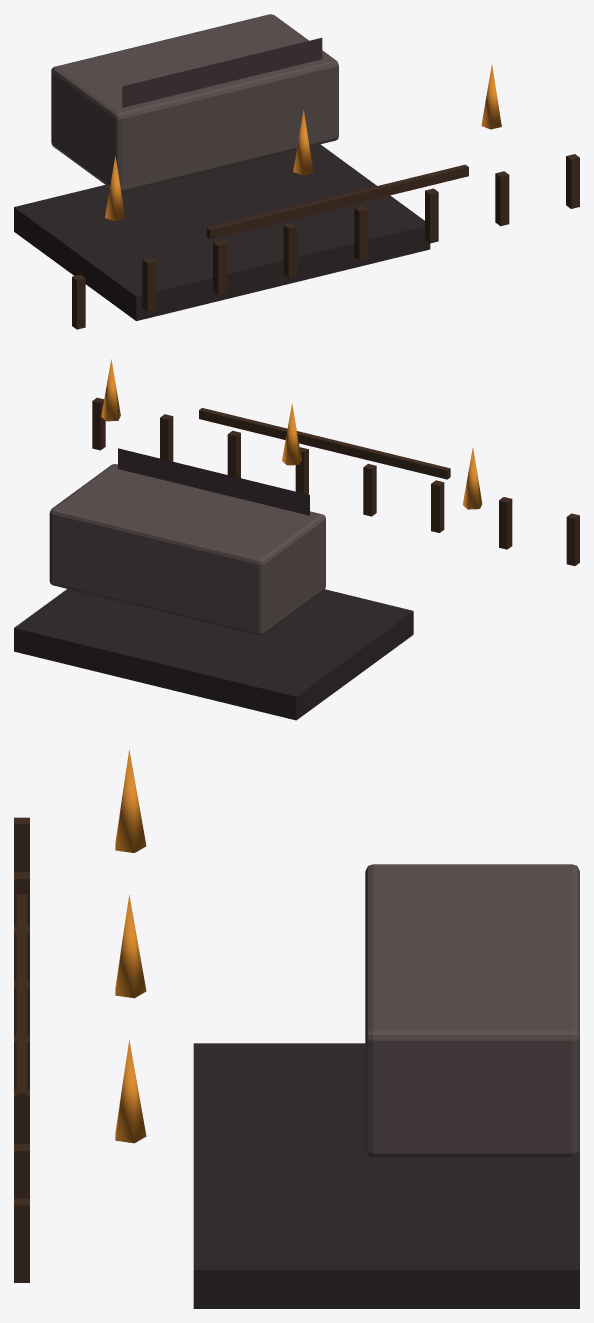
The model's file is ember_blaze_stable.glb.
The picture shows the model from 3 angles, top to bottom: view 1: azimuth 30°, elevation 25°; view 2: azimuth 150°, elevation 25°; view 3: azimuth 270°, elevation 25°; orthographic projection. The views are drawn at different scales.
Parts seen in each view (by area): view 1: ember_blaze_stable; view 2: ember_blaze_stable; view 3: ember_blaze_stable.
Boxes of the visible parts, <box> form: ember_blaze_stable: <box>14,14,579,329</box>; ember_blaze_stable: <box>14,359,579,720</box>; ember_blaze_stable: <box>14,750,579,1308</box>.
Bounding box in the file's own units: 42.75 × 15.5 × 26.38.
